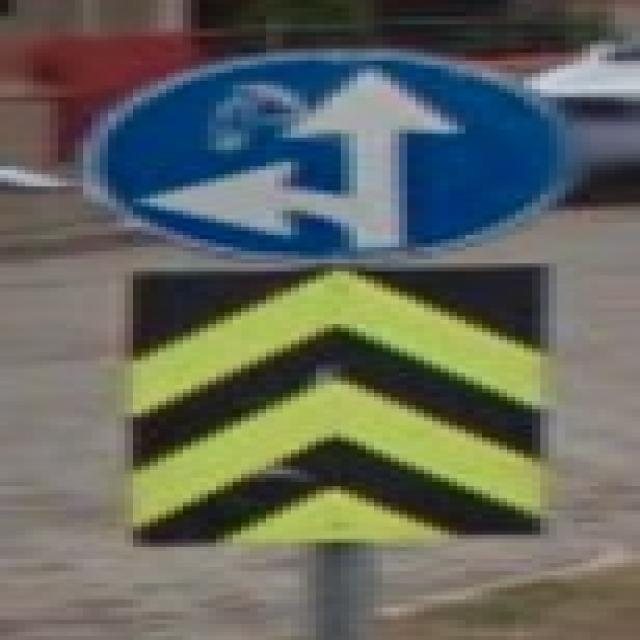Straight or Left: (80, 52, 579, 258)
